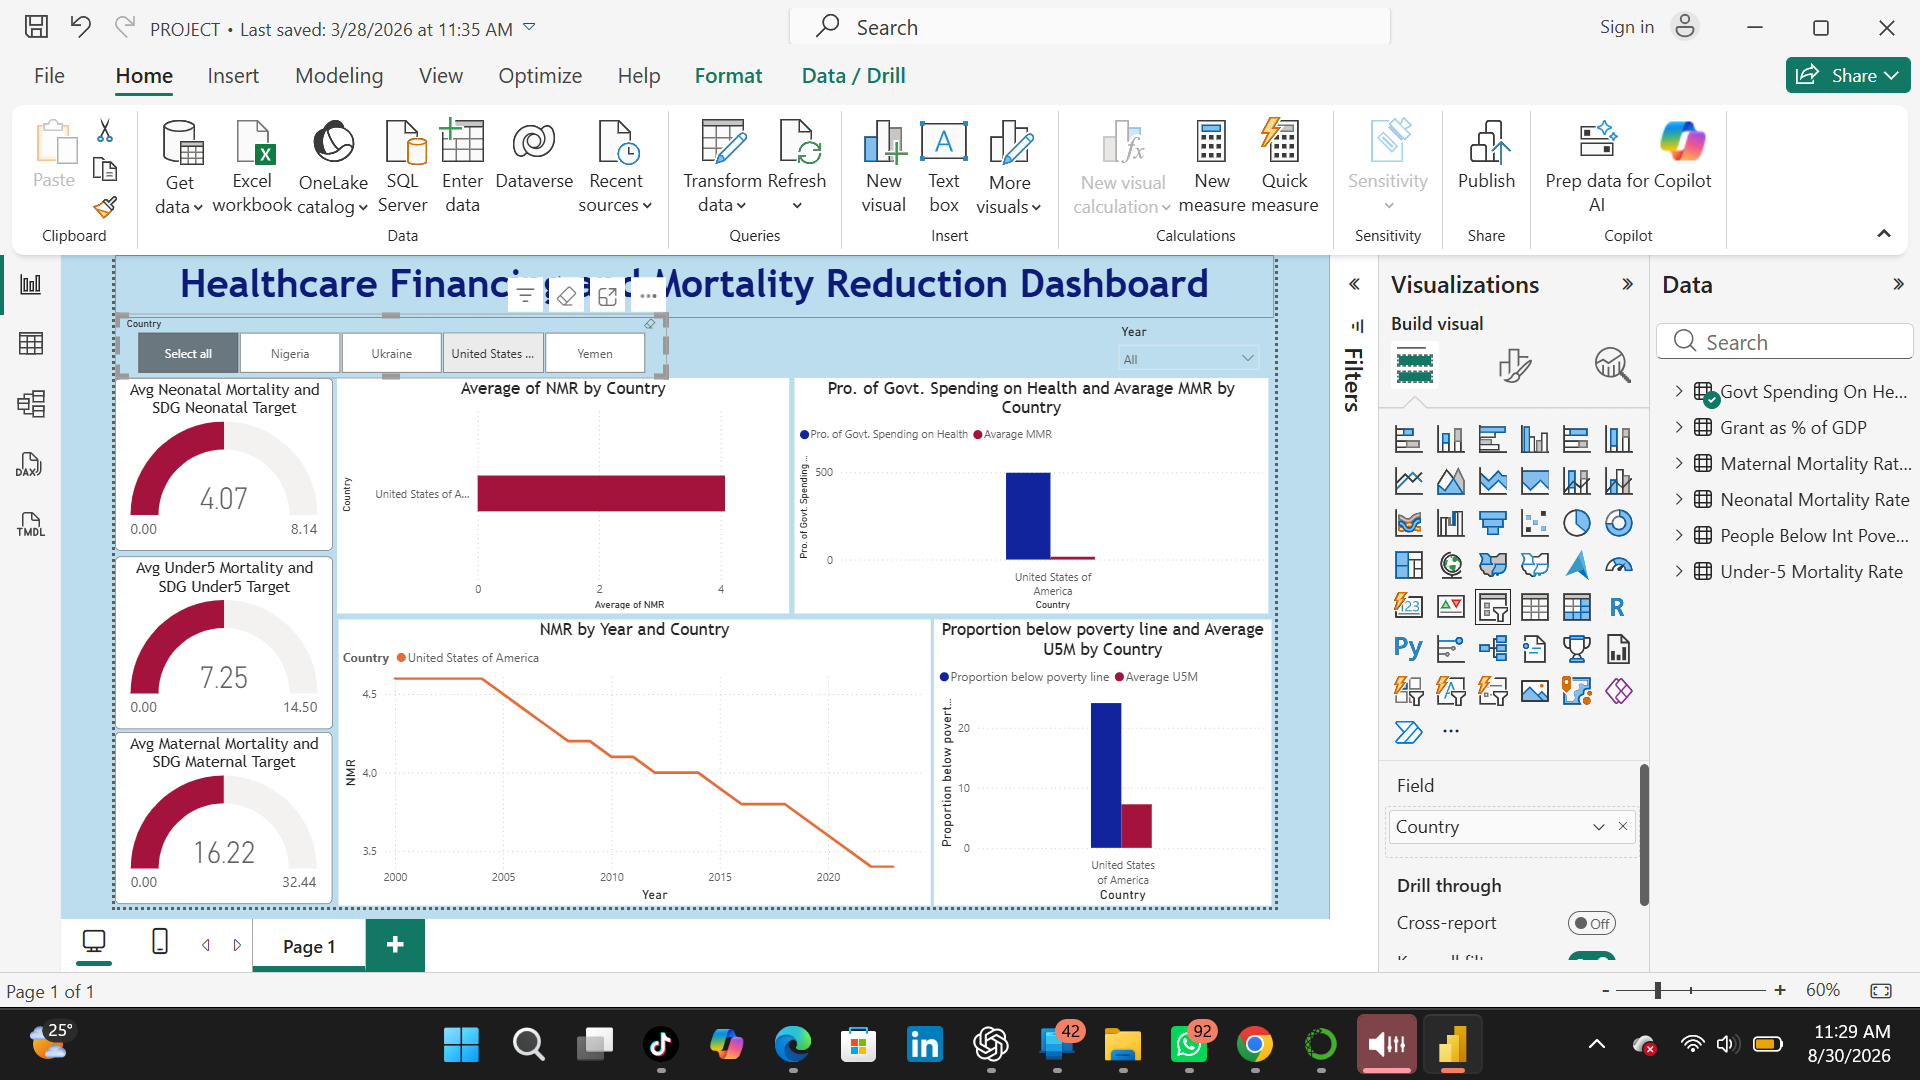

Layout of this report page (visuals, bound fields, positions):
{"tool":"powerbi","page":{"name":"Page 1","canvas":[1280,720],"ordinal":0},"visuals":[{"type":"lineChart","fields":{"Category":["Neonatal Mortality Rate.Year"],"Series":["Neonatal Mortality Rate.Country"],"Y":["Avg(Neonatal Mortality Rate.Value)"]},"box":[246.3,402.1,653.9,315.8],"z":0},{"type":"clusteredBarChart","fields":{"Category":["Neonatal Mortality Rate.Country"],"Y":["Avg(Neonatal Mortality Rate.Value)"]},"box":[244.9,136.3,499.5,260.2],"z":1000},{"type":"clusteredColumnChart","fields":{"Category":["Under-5 Mortality Rate.Country"],"Y":["Sum(People Below Int Poverty Line.Value)","Avg(Under-5 Mortality Rate.Value)"]},"box":[904.3,402.1,372.9,315.8],"z":2000},{"type":"clusteredColumnChart","fields":{"Category":["Maternal Mortality Ratio.Country"],"Y":["Sum(Govt  Spending On Health Servic.Value)","Avg(Maternal Mortality Ratio.Value)"]},"box":[749.9,136.3,523.1,260.2],"z":3000},{"type":"gauge","fields":{"TargetValue":["Govt  Spending On Health Servic.SDG Neonatal Target"],"Y":["Govt  Spending On Health Servic.Avg Neonatal Mortality"]},"box":[0,136.3,240.7,190.6],"z":4000},{"type":"gauge","fields":{"TargetValue":["Govt  Spending On Health Servic.SDG Maternal Target"],"Y":["Govt  Spending On Health Servic.Avg Maternal Mortality"]},"box":[0,527.3,240,190],"z":5000},{"type":"gauge","fields":{"TargetValue":["Govt  Spending On Health Servic.SDG Under5 Target"],"Y":["Govt  Spending On Health Servic.Avg Under5 Mortality"]},"box":[0,332.5,240.7,190.6],"z":6000},{"type":"textbox","box":[0,0,1280,69.6],"z":7000},{"type":"slicer","fields":{"Values":["Govt  Spending On Health Servic.Country"]},"box":[0,64,609.4,72.3],"z":8000},{"type":"slicer","fields":{"Values":["Neonatal Mortality Rate.Year"]},"box":[1097.7,71,175.3,65.4],"z":9000}]}

Visuals, with their boxes on the page's 1280x720 design canvas (x1, y1, x2, y2). These are canvas units, not pixel positions in the 1920x1080 screenshot, which may show the page scaled, cropped or inside an application window:
lineChart - Neonatal Mortality Rate.Year x Neonatal Mortality Rate.Country: (x1=246, y1=402, x2=900, y2=718)
clusteredBarChart - Neonatal Mortality Rate.Country x Avg(Neonatal Mortality Rate.Value): (x1=245, y1=136, x2=744, y2=396)
clusteredColumnChart - Under-5 Mortality Rate.Country x Sum(People Below Int Poverty Line.Value): (x1=904, y1=402, x2=1277, y2=718)
clusteredColumnChart - Maternal Mortality Ratio.Country x Sum(Govt  Spending On Health Servic.Value): (x1=750, y1=136, x2=1273, y2=396)
gauge - Govt  Spending On Health Servic.SDG Neonatal Target x Govt  Spending On Health Servic.Avg Neonatal Mortality: (x1=0, y1=136, x2=241, y2=327)
gauge - Govt  Spending On Health Servic.SDG Maternal Target x Govt  Spending On Health Servic.Avg Maternal Mortality: (x1=0, y1=527, x2=240, y2=717)
gauge - Govt  Spending On Health Servic.SDG Under5 Target x Govt  Spending On Health Servic.Avg Under5 Mortality: (x1=0, y1=332, x2=241, y2=523)
textbox: (x1=0, y1=0, x2=1280, y2=70)
slicer - Govt  Spending On Health Servic.Country: (x1=0, y1=64, x2=609, y2=136)
slicer - Neonatal Mortality Rate.Year: (x1=1098, y1=71, x2=1273, y2=136)
